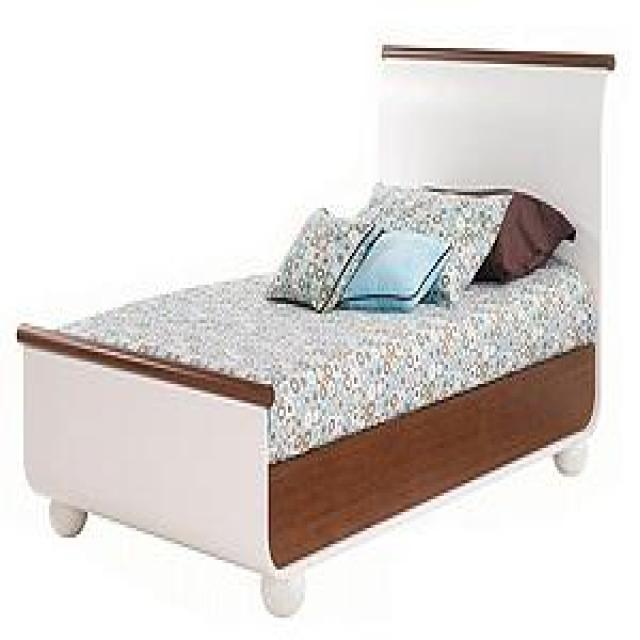bed: (15, 42, 614, 618)
